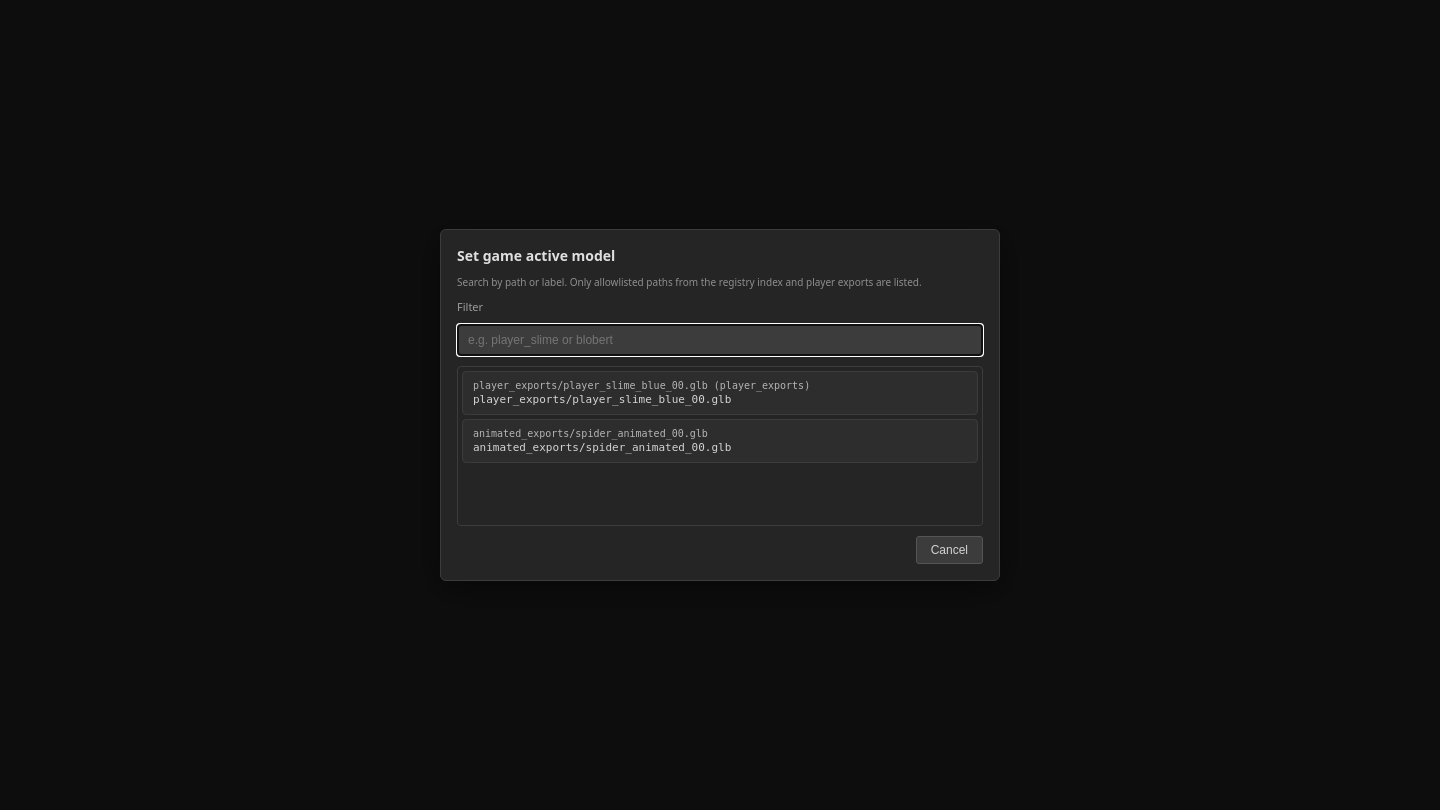
Test: PlayerActiveModelModal › shows empty state when filter matches nothing
The image size is (1440, 810).
Type "zzznomatch" into the search field.
click(720, 340); type("zzznomatch")  # box [457, 324, 983, 356]
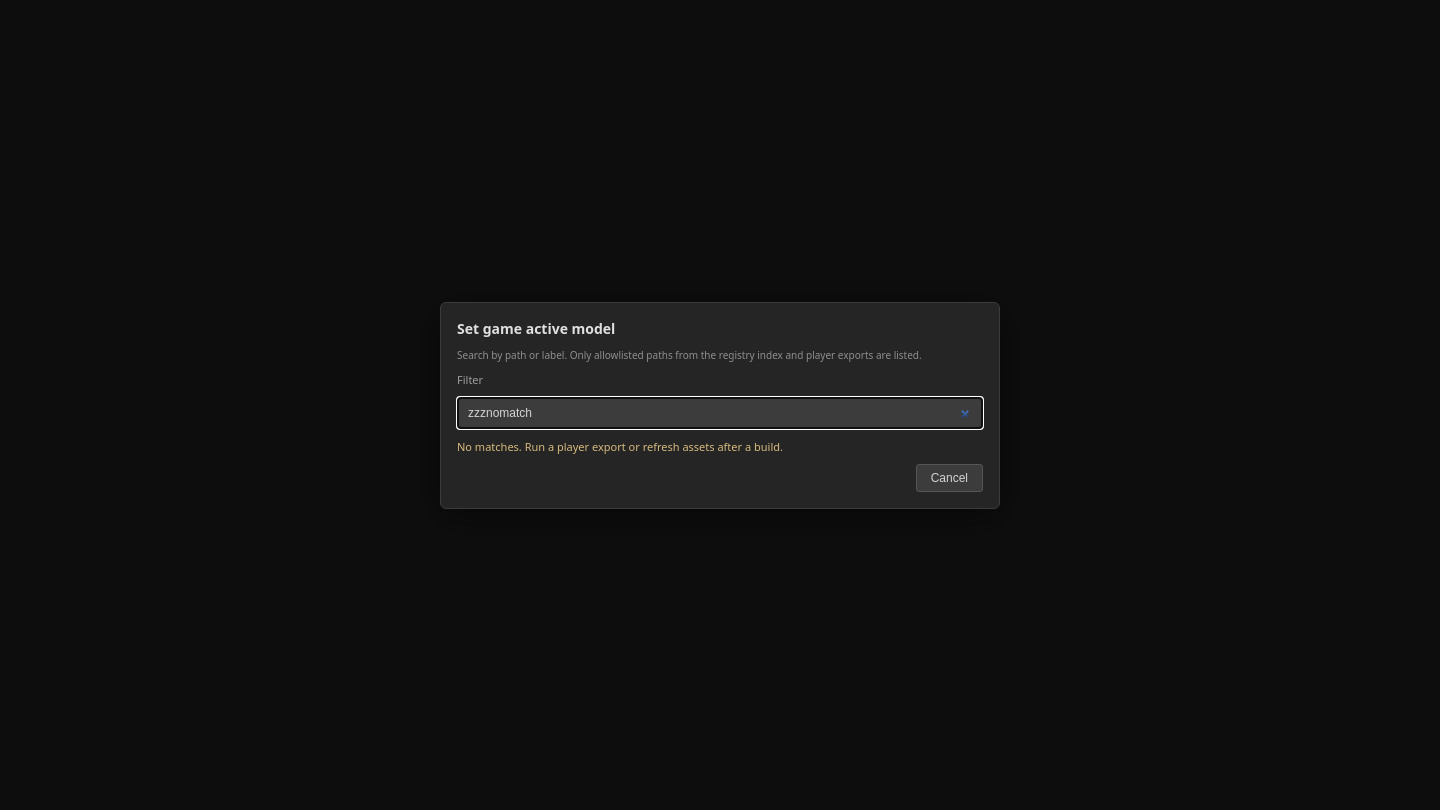
Result: the text "No matches" is shown at [457, 438, 783, 454]
